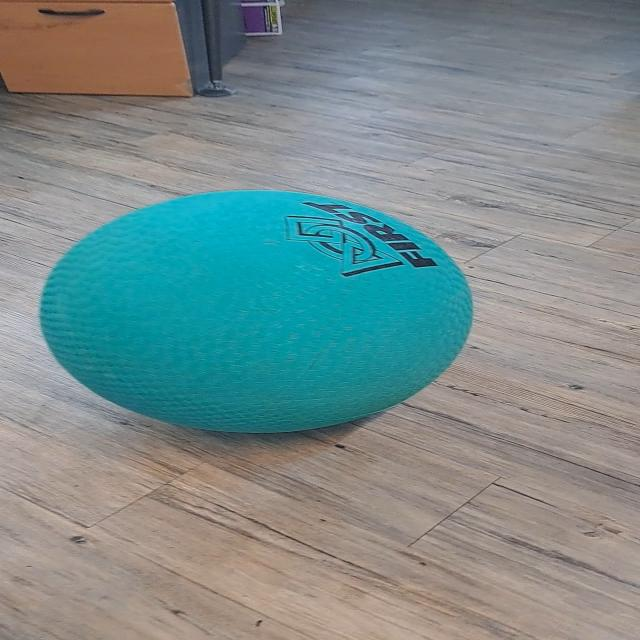ALGAE: (37, 188, 475, 434)
